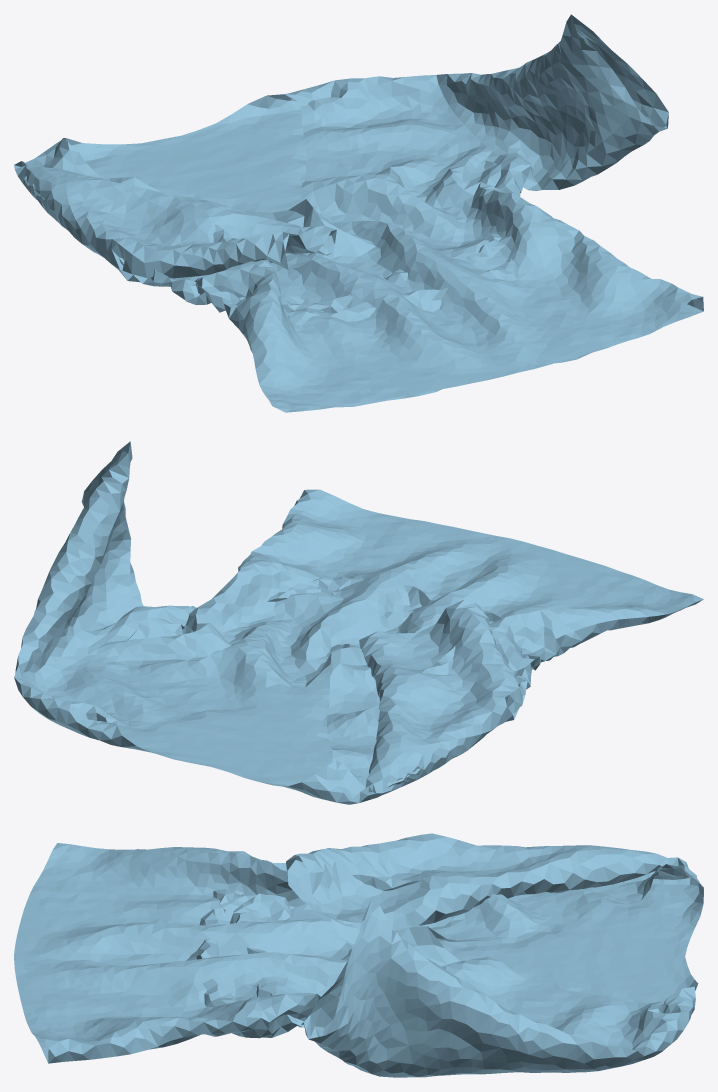
Rendered from frame_09.glb.
The picture shows the model from 3 angles, top to bottom: view 1: azimuth 30°, elevation 25°; view 2: azimuth 150°, elevation 25°; view 3: azimuth 270°, elevation 25°; orthographic projection. The views are drawn at different scales.
Visible parts, largest first — view 1: frame_09.obj; view 2: frame_09.obj; view 3: frame_09.obj.
Boxes of the visible parts, x1,y1,x2,y2 form: frame_09.obj: [14, 14, 703, 412]; frame_09.obj: [14, 441, 703, 804]; frame_09.obj: [14, 833, 703, 1077].
Size of the model in its own units: 1.43 by 0.4716 by 1.58.
